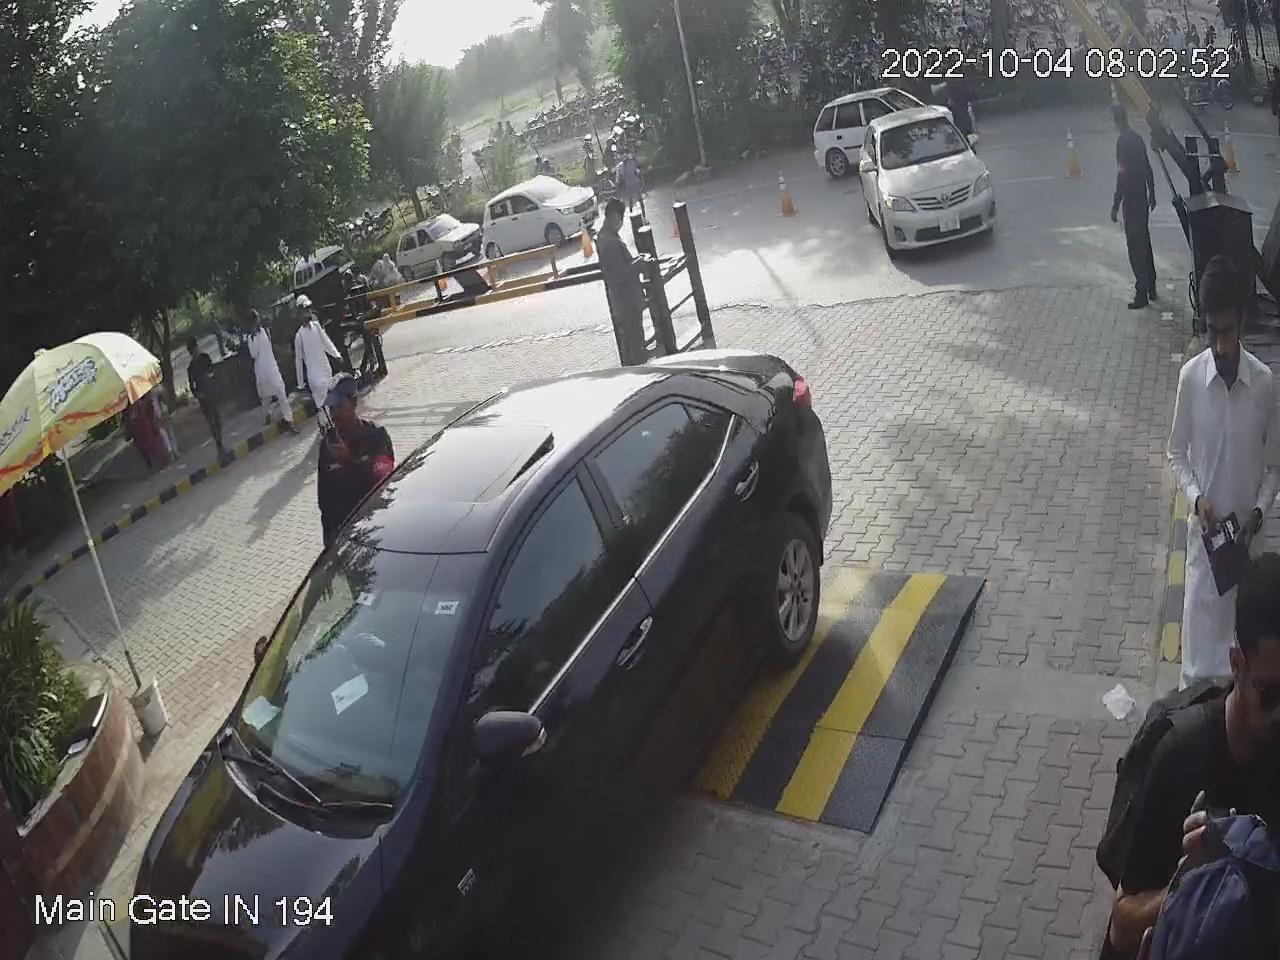windshield: (211, 522, 493, 825)
